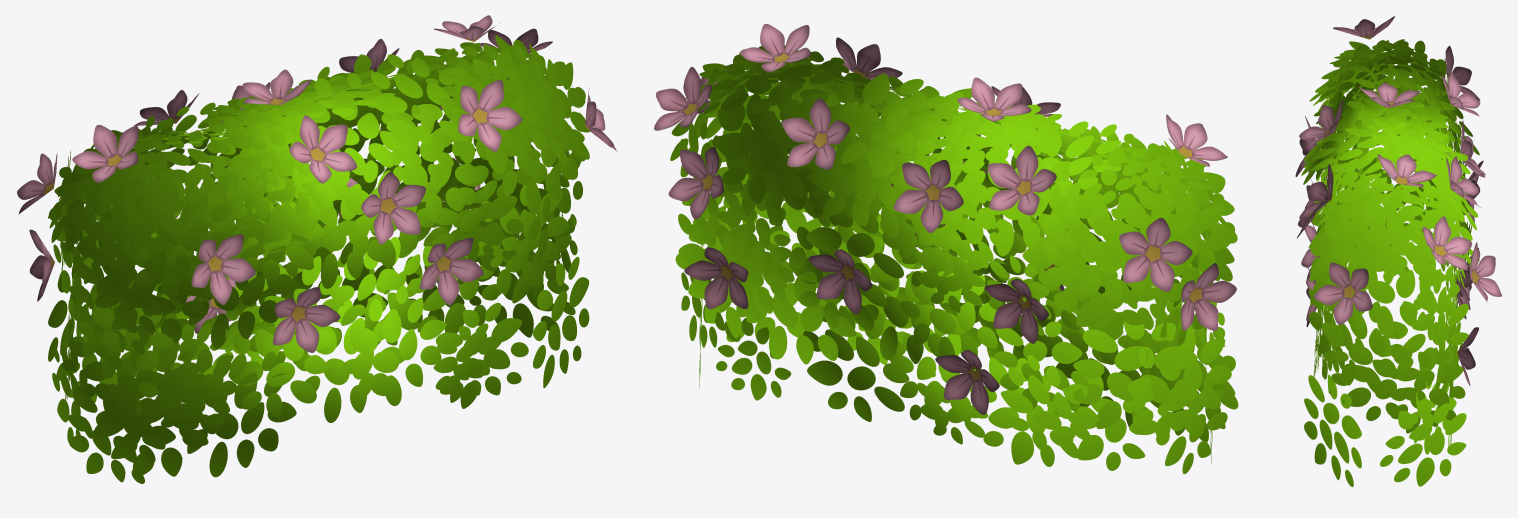
File: Bush_Large_Flowers.glb
3 renders of one model, left to right at view 1: azimuth 30°, elevation 25°; view 2: azimuth 150°, elevation 25°; view 3: azimuth 270°, elevation 25°, orthographic. The views are drawn at different scales.
Visible parts, largest first — view 1: Bush_Large_Flowers; view 2: Bush_Large_Flowers; view 3: Bush_Large_Flowers.
Boxes of the visible parts, left/top/right/bottom form: Bush_Large_Flowers: left=17, top=15, right=617, bottom=483; Bush_Large_Flowers: left=654, top=24, right=1238, bottom=473; Bush_Large_Flowers: left=1295, top=16, right=1501, bottom=487.
Size of the model in its own units: 1.93 by 1.26 by 0.7616.
2 materials, 2 textured.
